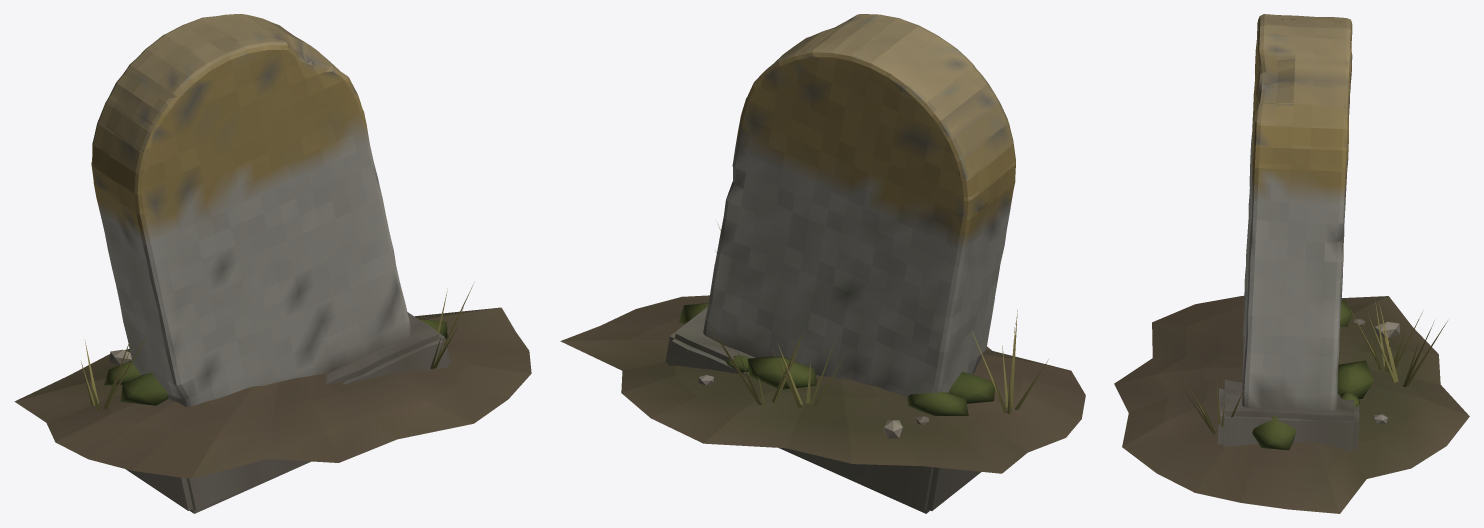
Rendered from milestone_v2_b.glb.
The picture shows the model from 3 angles, left to right: view 1: azimuth 30°, elevation 25°; view 2: azimuth 150°, elevation 25°; view 3: azimuth 270°, elevation 25°; orthographic projection. The views are drawn at different scales.
Parts seen in each view (by area): view 1: hb_main; view 2: hb_main; view 3: hb_main.
Part boxes in pixels (x1,y1,x2,y2): hb_main: (14, 14, 531, 513); hb_main: (560, 14, 1085, 513); hb_main: (1114, 14, 1469, 513).
Bounding box in the file's own units: 1.13 × 1.01 × 0.7589.
